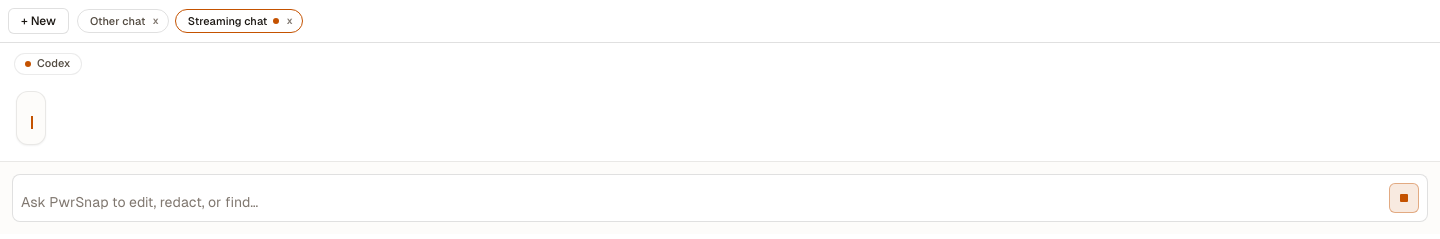
Test: LibraryChatPanel › retains a thread's complete stream buffer while another thread is selected
This screenshot has width=1440, height=239.
Click the button titled "Other chat".
click(118, 21)  # box [90,10,146,32]
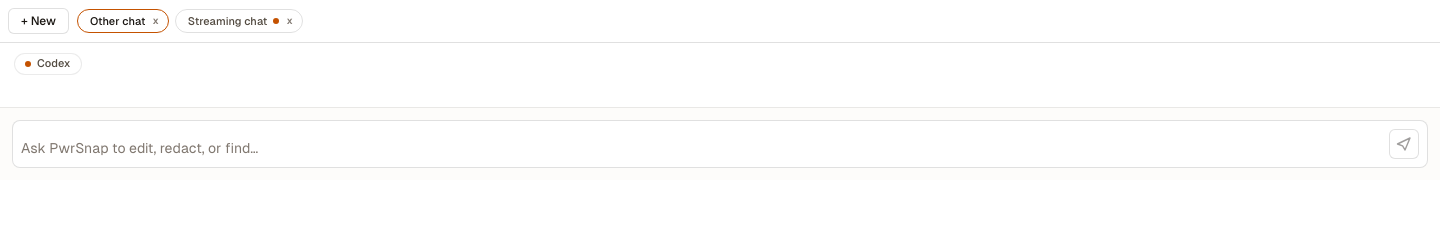
Click the button titled "Streaming chat".
click(234, 21)  # box [188,10,279,32]
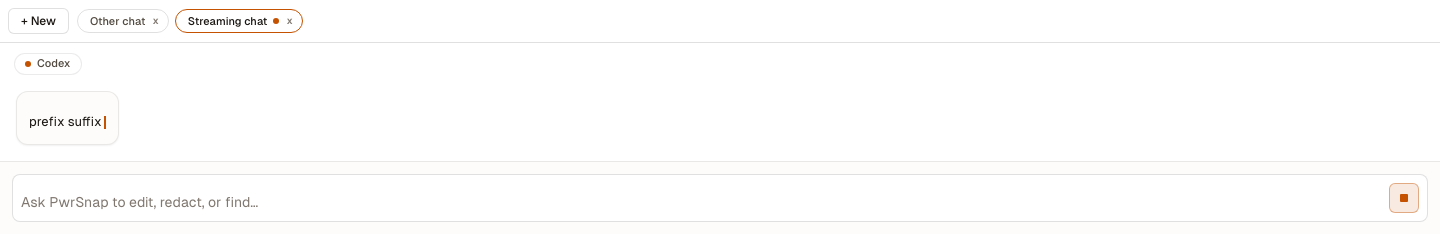
expect the text "prefix suffix" is shown: met, box [29,112,106,132]
